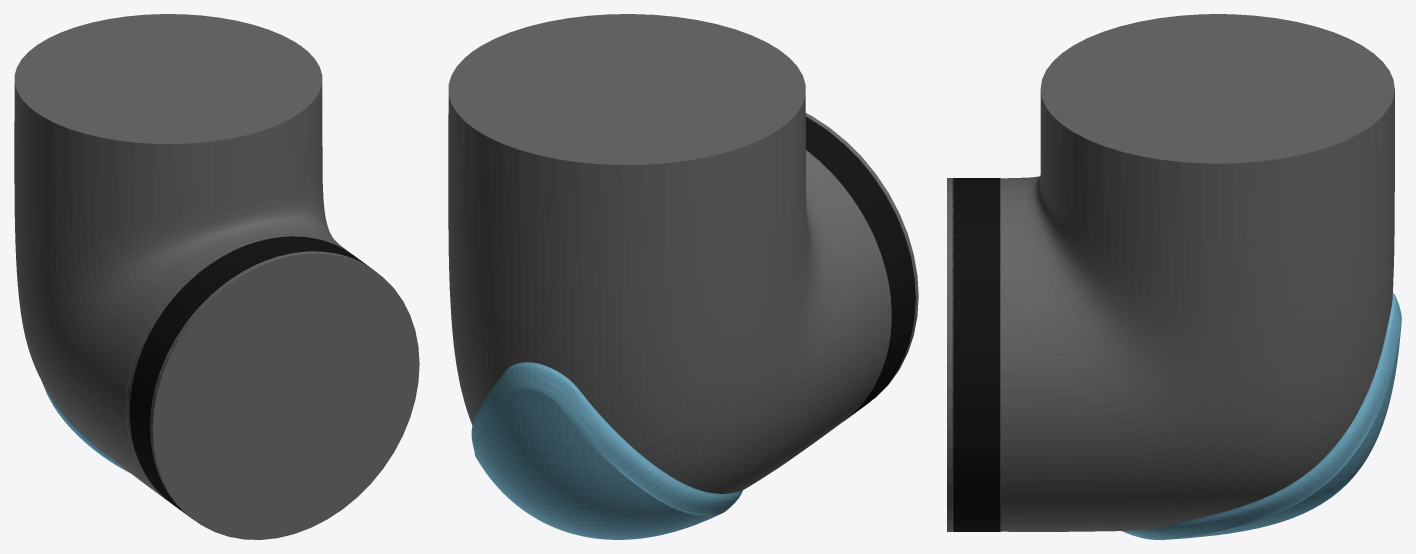
3 views of the same model, side by side, from view 1: azimuth 30°, elevation 25°; view 2: azimuth 150°, elevation 25°; view 3: azimuth 270°, elevation 25° (orthographic). The views are drawn at different scales.
Parts seen in each view (by area): view 1: ur20 - 695-903-00_Centercode_B.step-1 C-2003907.step-1; view 2: ur20 - 695-903-00_Centercode_B.step-1 C-2003907.step-1; view 3: ur20 - 695-903-00_Centercode_B.step-1 C-2003907.step-1.
Boxes of the visible parts, x1,y1,x2,y2 form: ur20 - 695-903-00_Centercode_B.step-1 C-2003907.step-1: (14, 14, 419, 539); ur20 - 695-903-00_Centercode_B.step-1 C-2003907.step-1: (448, 14, 918, 539); ur20 - 695-903-00_Centercode_B.step-1 C-2003907.step-1: (947, 14, 1401, 539).
Size of the model in its own units: 0.1 by 0.1284 by 0.1355.
